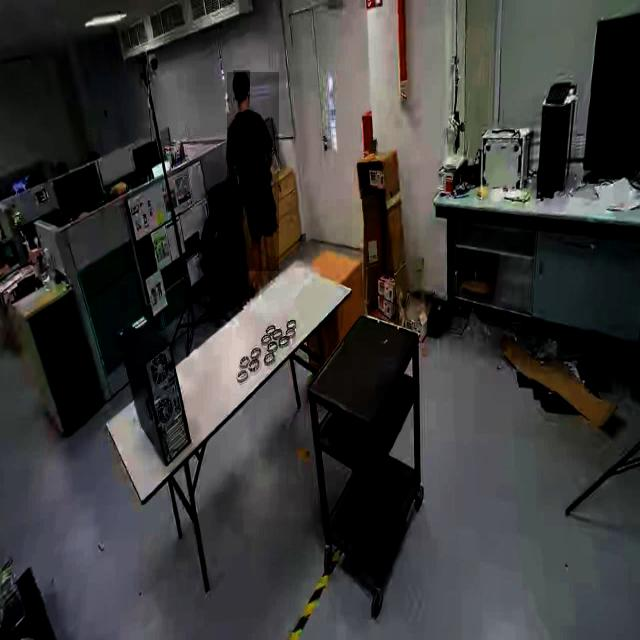head_nohelmet: (233, 70, 250, 87)
person: (227, 72, 279, 272)
